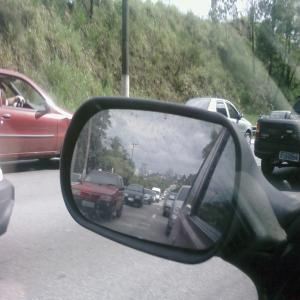Vehicle-registration-plate: (280, 152, 300, 163)
